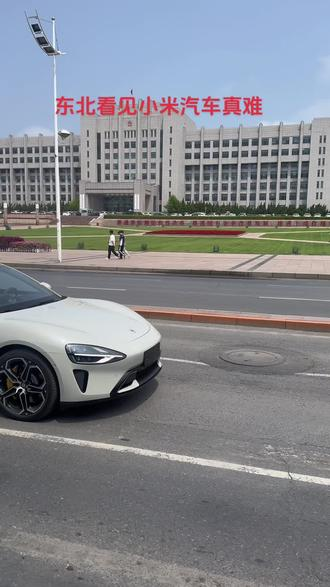su7: (0, 254, 164, 428)
